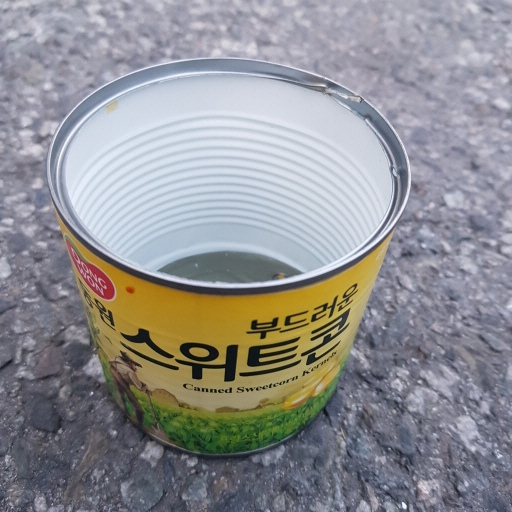Metal_1: (48, 57, 412, 454)
